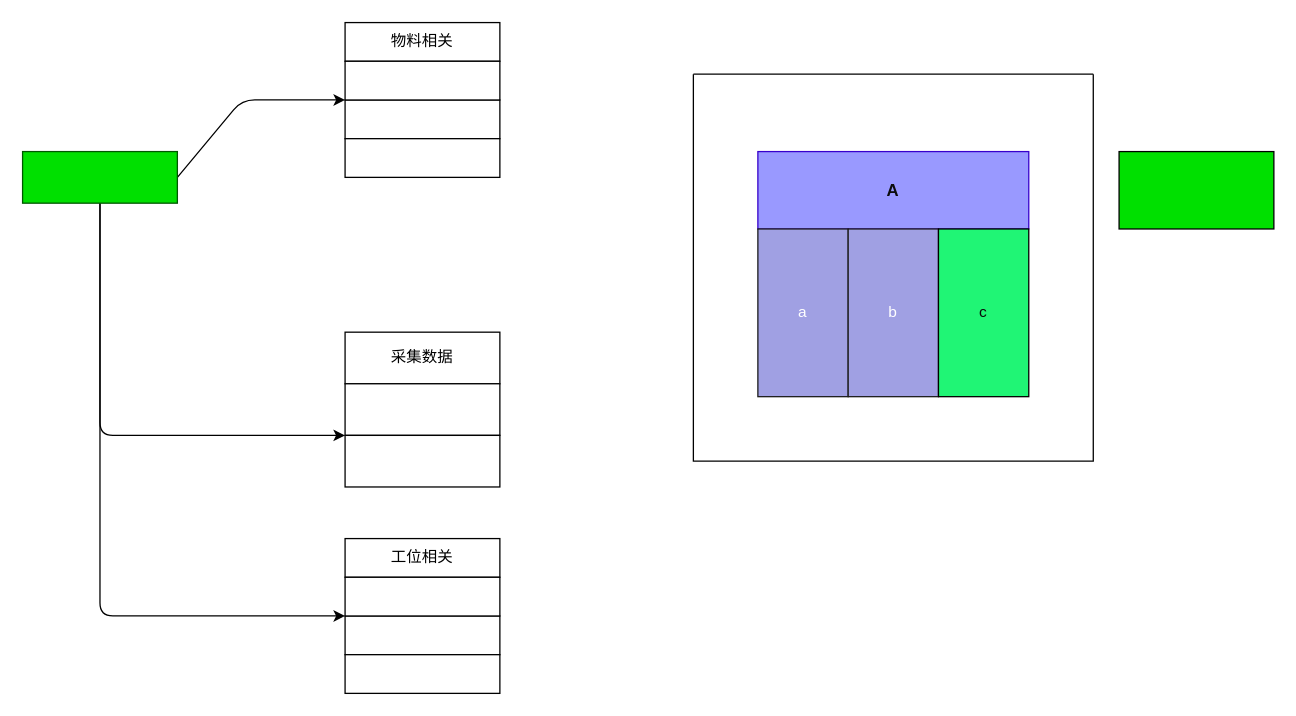
Some shapes in this 1296 by 716 pixel diagram are drawn without their labels. Each missing label, with the box of its shape:
任务: (21, 150, 177, 203)
基础模式：装配主体 + 装配件: (692, 73, 1093, 461)
